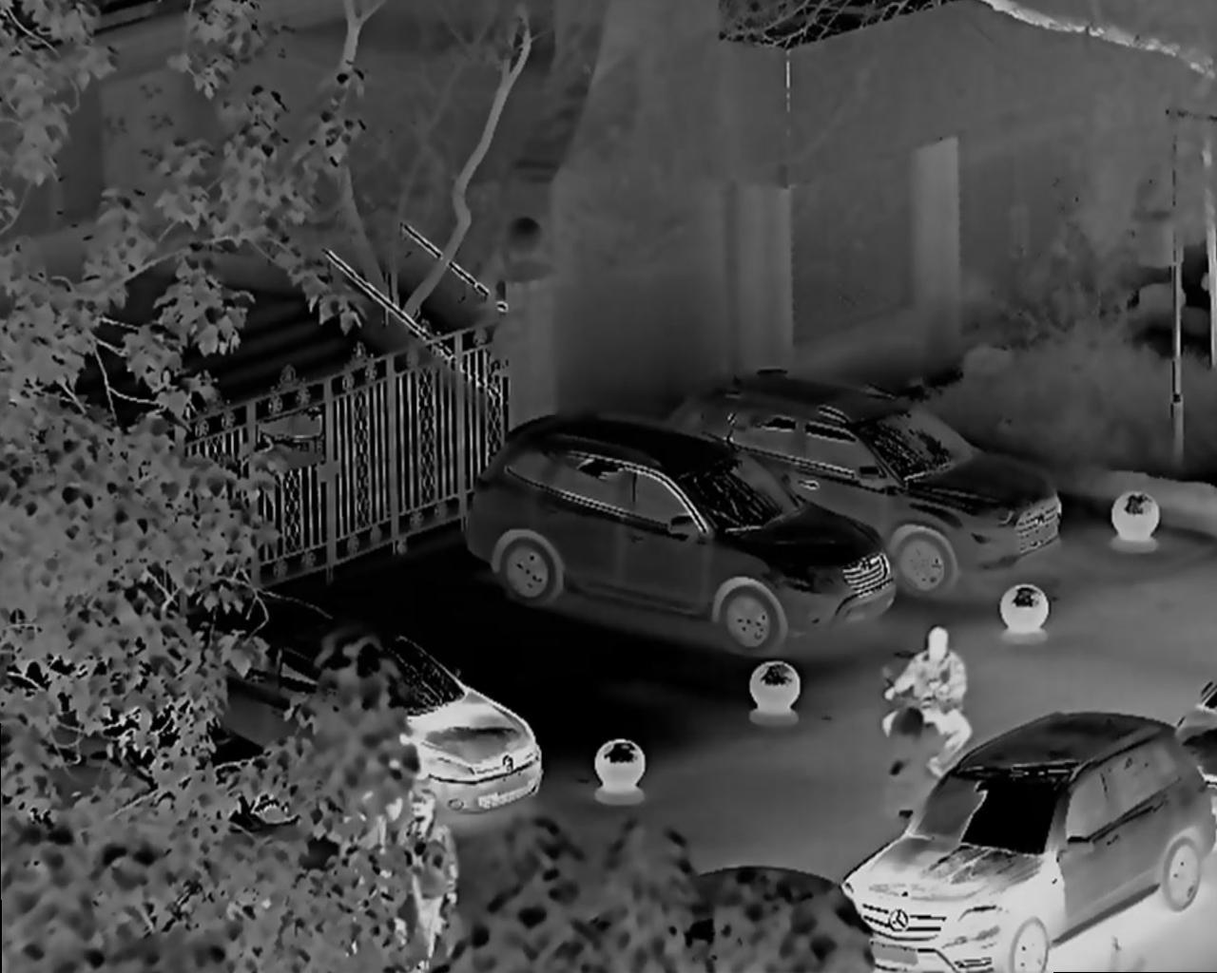person: (881, 623, 976, 783), (397, 781, 464, 930)
